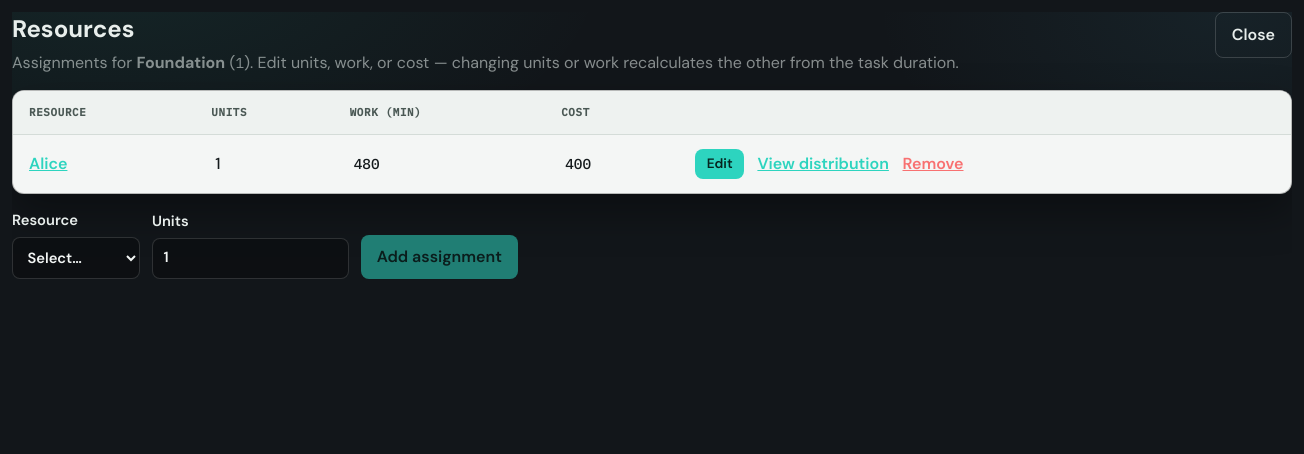
Test: AssignmentPanel › does not fetch timephased until View distribution is expanded
Expected: the button with aria-label "edit assignment for alice" is shown, [29,152,67,176]
Click the button "View distribution" at {"x": 823, "y": 164}, box [757,148,889,179]
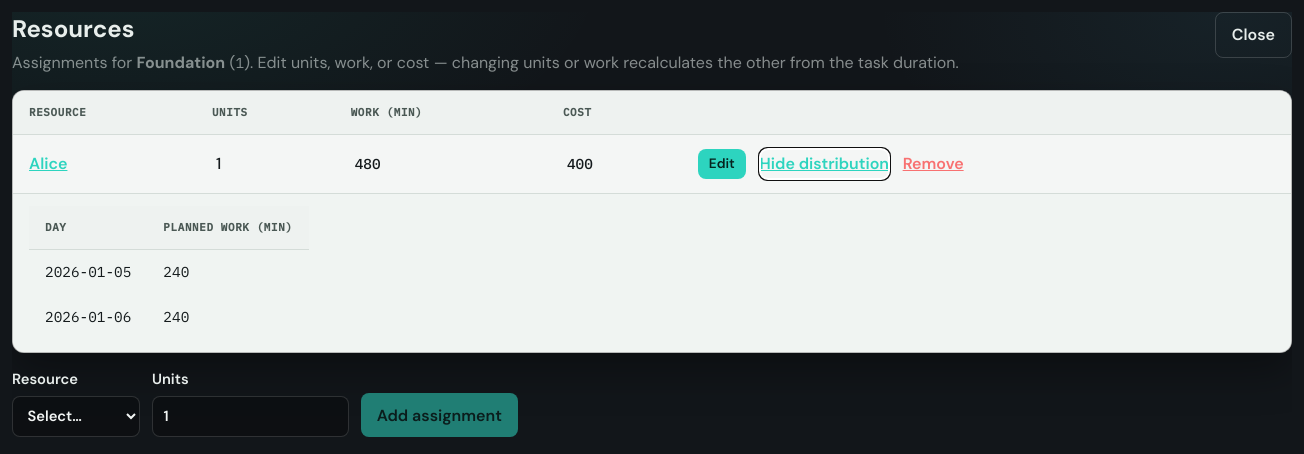
Now the text "2026-01-05" is shown, box [29,250,147,295]
Now the text "2026-01-06" is shown, box [29,295,147,340]
Click the button "Hide distribution" at {"x": 824, "y": 164}, box [760,148,889,179]
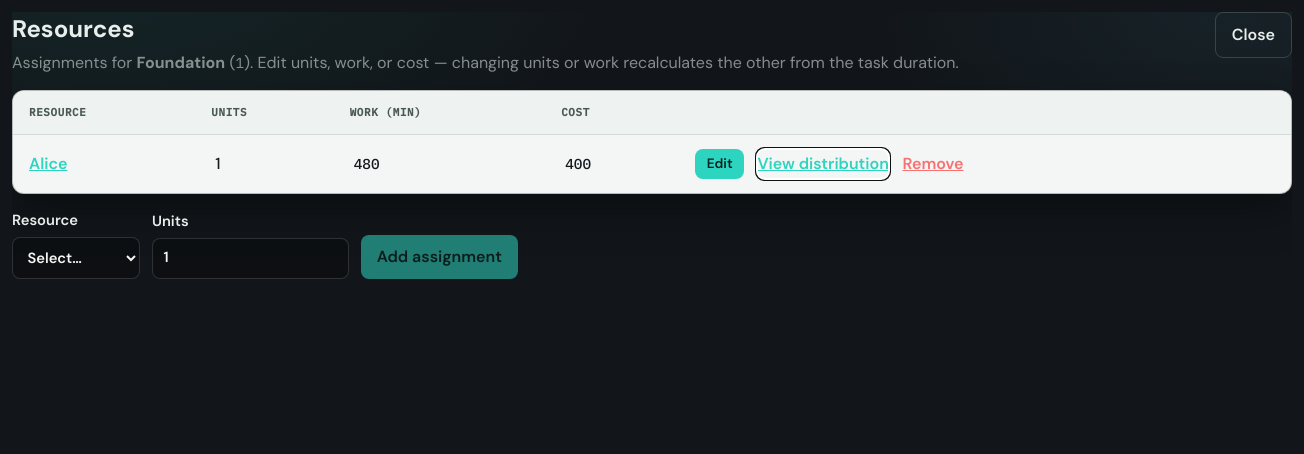
Now the text "2026-01-05" is gone
